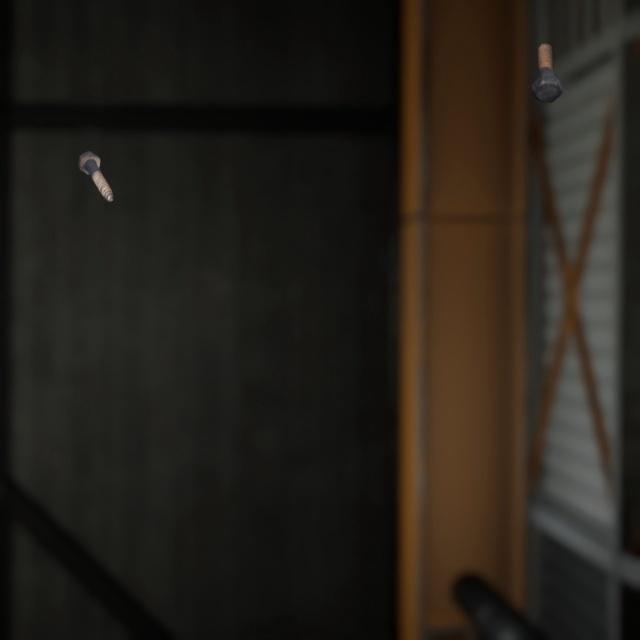bolt: (527, 28, 566, 96), (73, 133, 118, 191)
